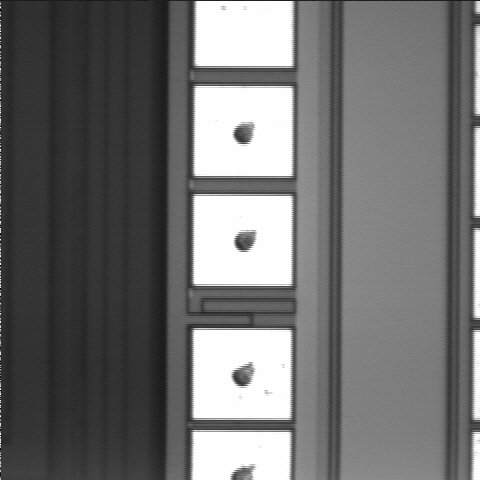pad: (194, 86, 292, 176), (194, 196, 292, 286), (193, 330, 291, 418)
